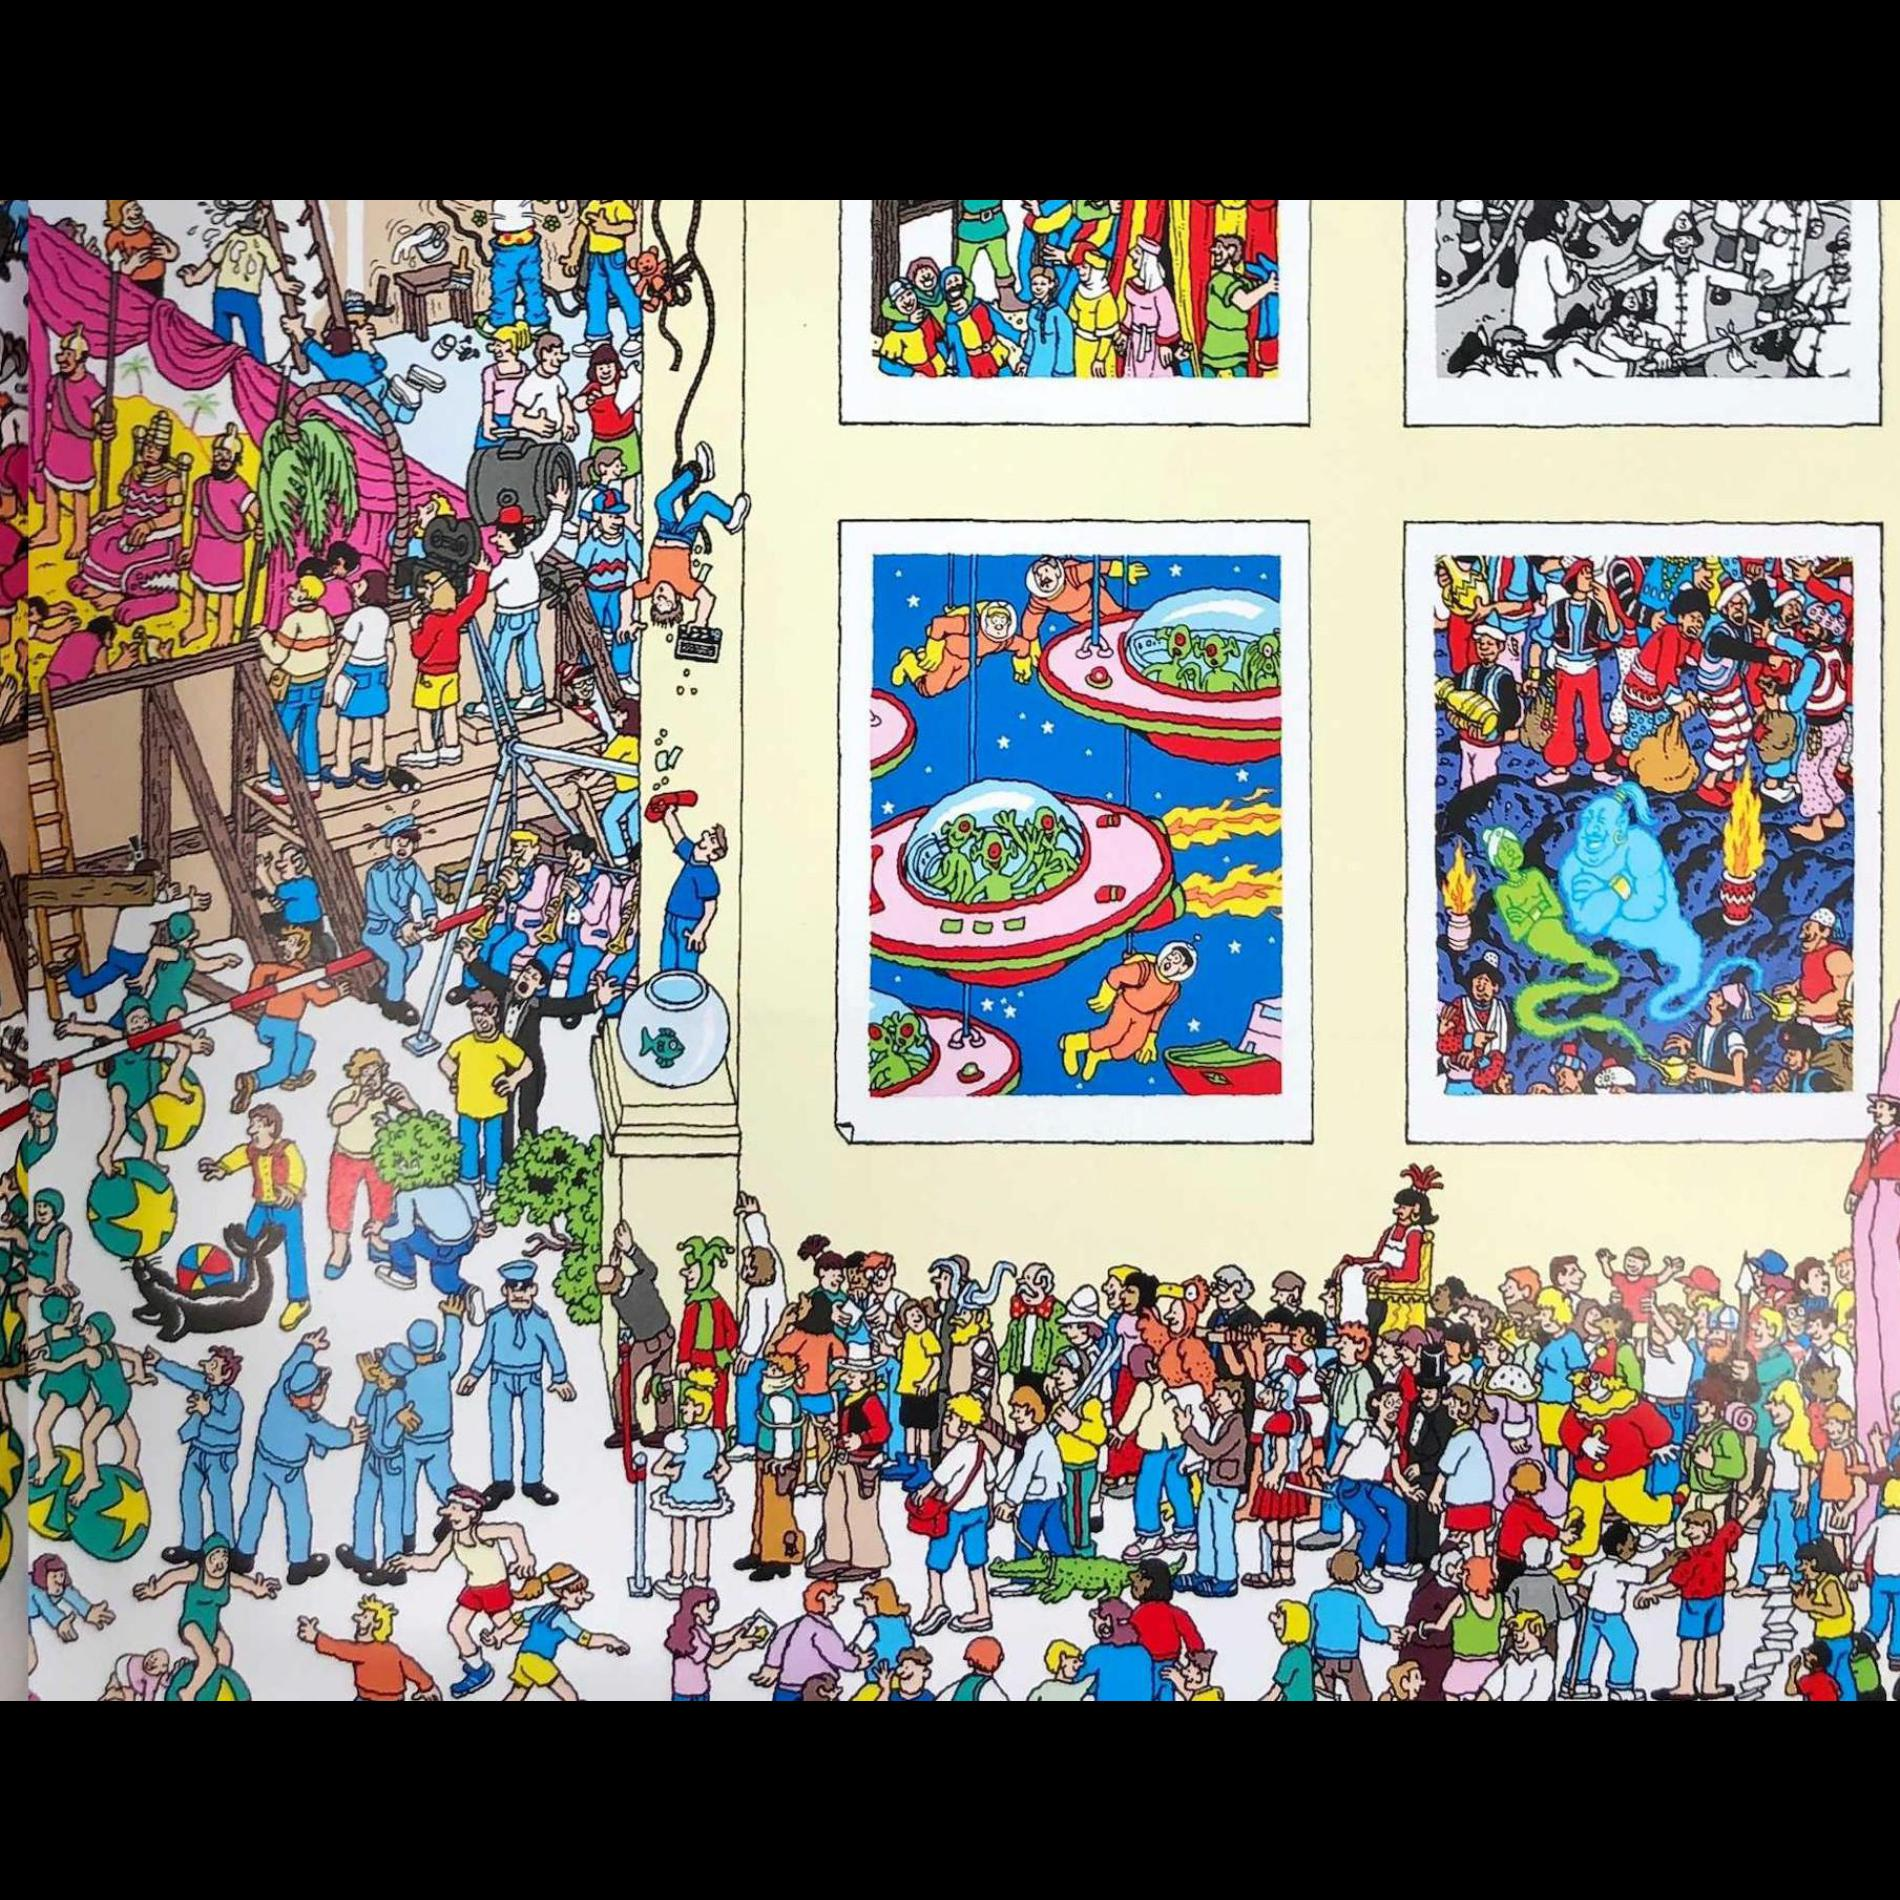Waldo: (1770, 1282, 1806, 1359)
Wilma: (560, 659, 599, 727)
